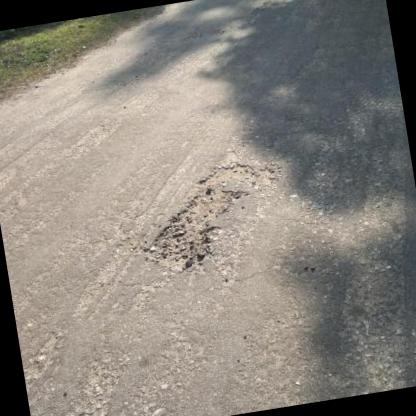pothole: (126, 157, 271, 276)
